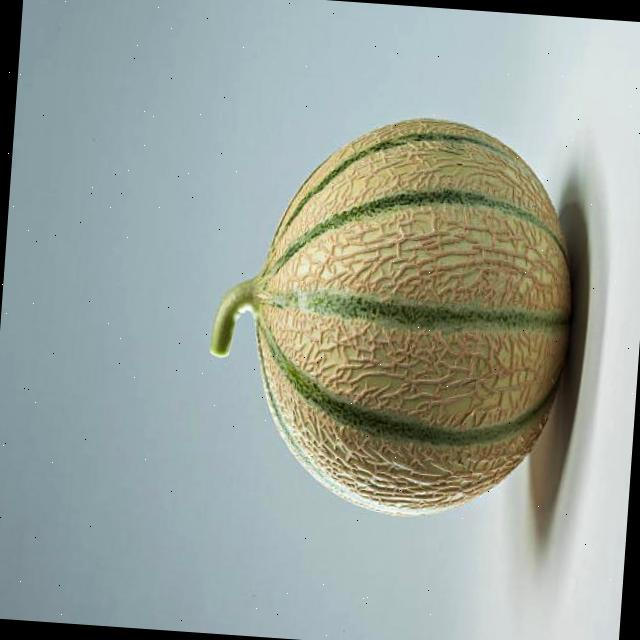Hami Melon: (239, 104, 591, 526)
